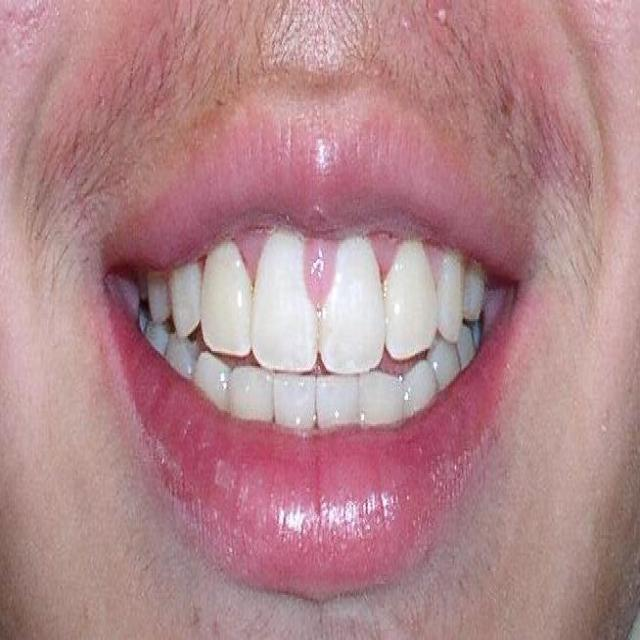tooth: (321, 236, 386, 378), (251, 240, 317, 376), (382, 242, 436, 353), (200, 244, 250, 358), (432, 254, 466, 342), (270, 366, 319, 426), (227, 360, 273, 417), (173, 253, 205, 334), (360, 376, 402, 434), (320, 376, 367, 424), (197, 349, 232, 413), (407, 358, 441, 421), (142, 272, 176, 329), (168, 338, 201, 385), (432, 340, 468, 381), (464, 264, 487, 322), (453, 316, 481, 358), (147, 317, 167, 368)
